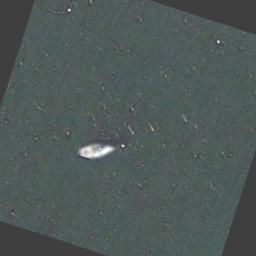boat: (77, 134, 120, 166)
